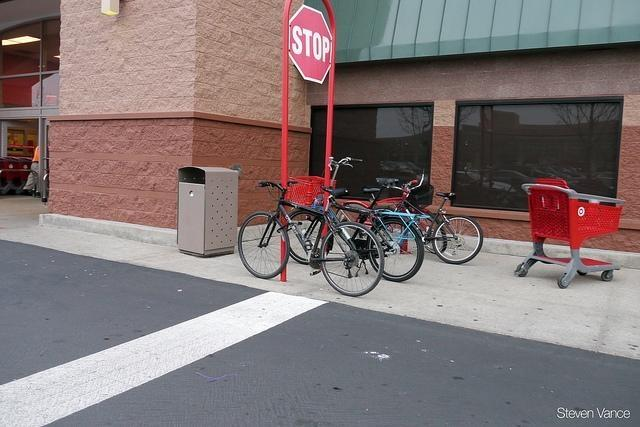bicycle: (238, 180, 386, 297), (342, 178, 429, 281), (406, 168, 486, 266), (328, 156, 416, 212)
